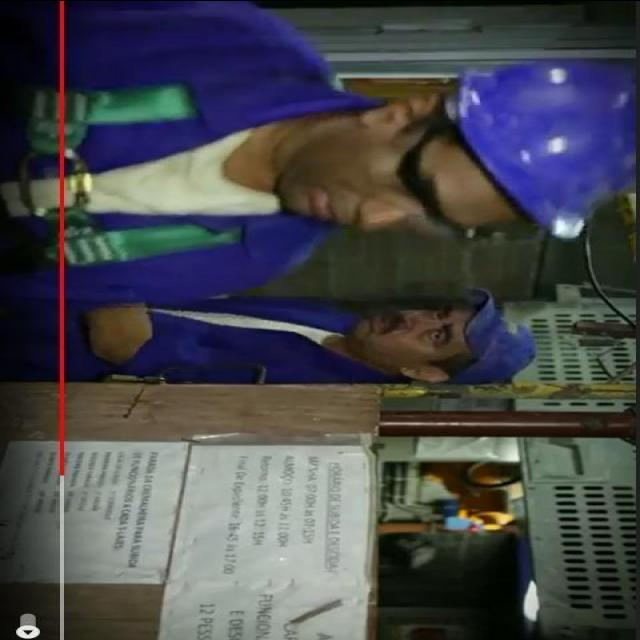helmet: (440, 52, 634, 248)
